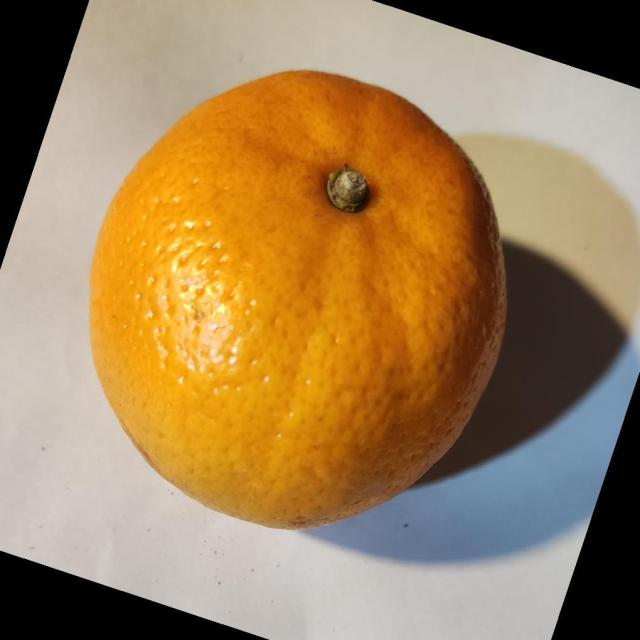fresh orange: (87, 68, 508, 531)
